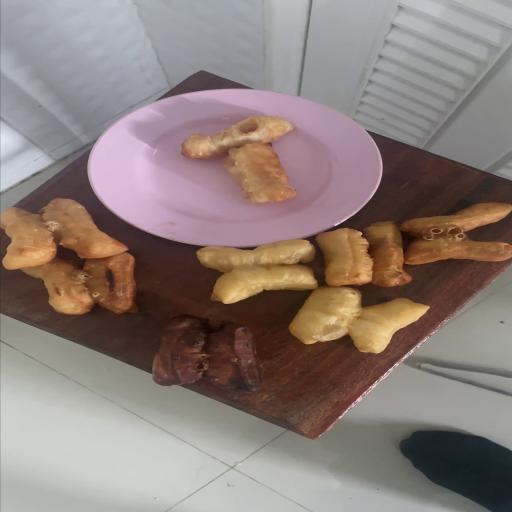street_burnt_defect: (150, 316, 260, 392), (23, 255, 136, 313)
street_golden_good: (196, 238, 317, 303)
